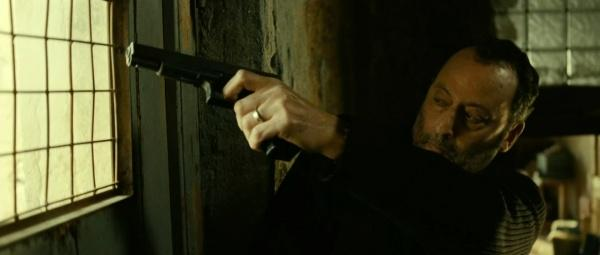Gun: (126, 40, 295, 163)
